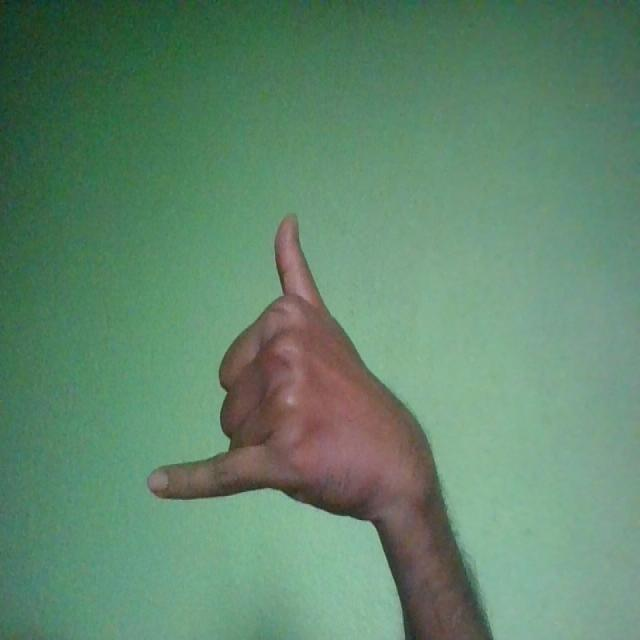Call Me: (148, 212, 429, 524)
